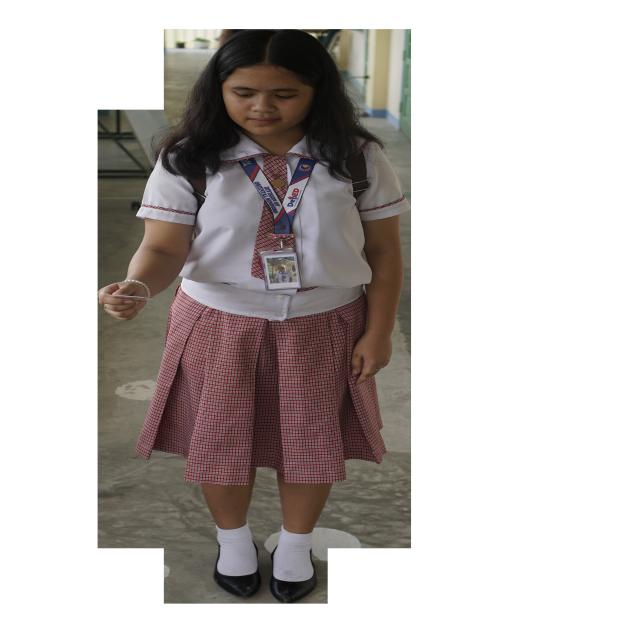id lace: (240, 158, 316, 236)
pologirl: (137, 134, 409, 323)
shoes: (213, 548, 261, 598), (269, 561, 317, 603)
skirt: (137, 286, 386, 485)
